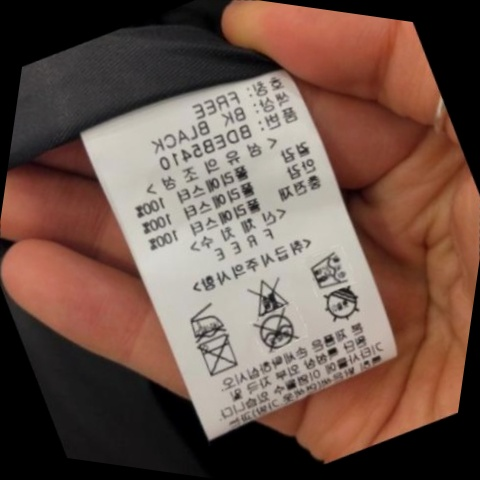DN_dry_clean: (242, 305, 305, 355)
DN_wash: (186, 330, 245, 384)
dry_flat: (293, 238, 358, 293)
iron_medium: (172, 290, 235, 345)
line_dry_in_shade: (312, 284, 364, 328)
non_chlorine_bleach: (242, 270, 299, 321)
